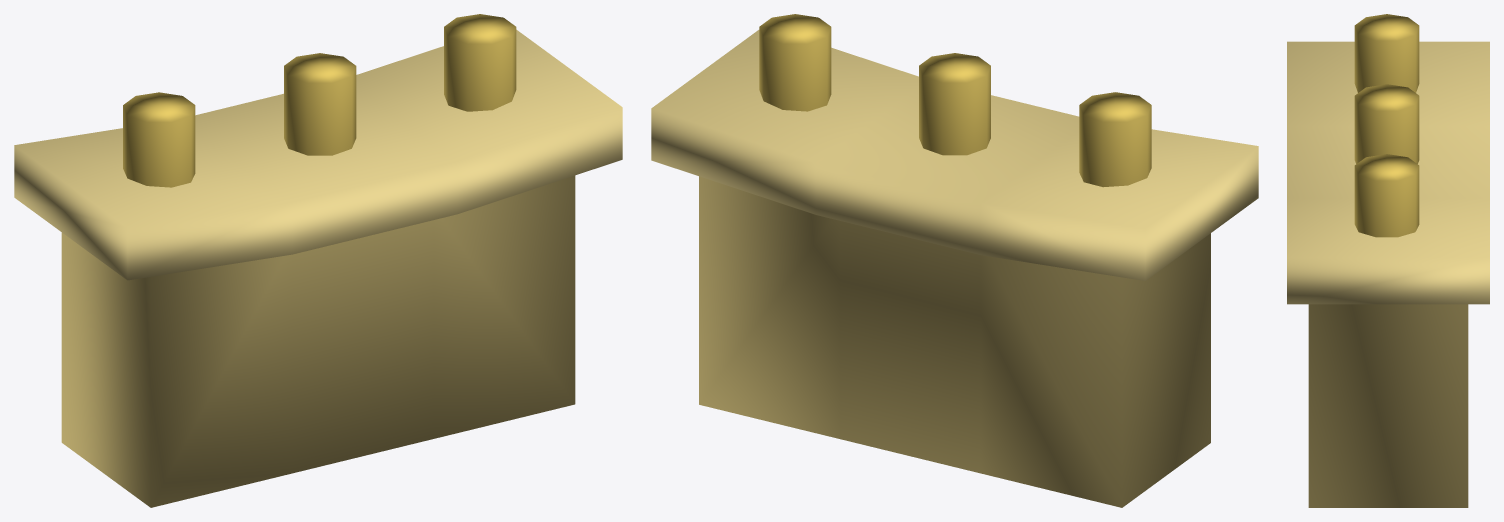
File: Building_C_11.fbx
3 renders of one model, left to right at view 1: azimuth 30°, elevation 25°; view 2: azimuth 150°, elevation 25°; view 3: azimuth 270°, elevation 25°, orthographic. The views are drawn at different scales.
Visible parts, largest first — view 1: Building_C_11; view 2: Building_C_11; view 3: Building_C_11.
Boxes of the visible parts, bbox=[...] form: Building_C_11: bbox=[14, 14, 622, 507]; Building_C_11: bbox=[651, 14, 1258, 507]; Building_C_11: bbox=[1287, 14, 1489, 507].
Size of the model in its own units: 136 by 93.53 by 54.09.
